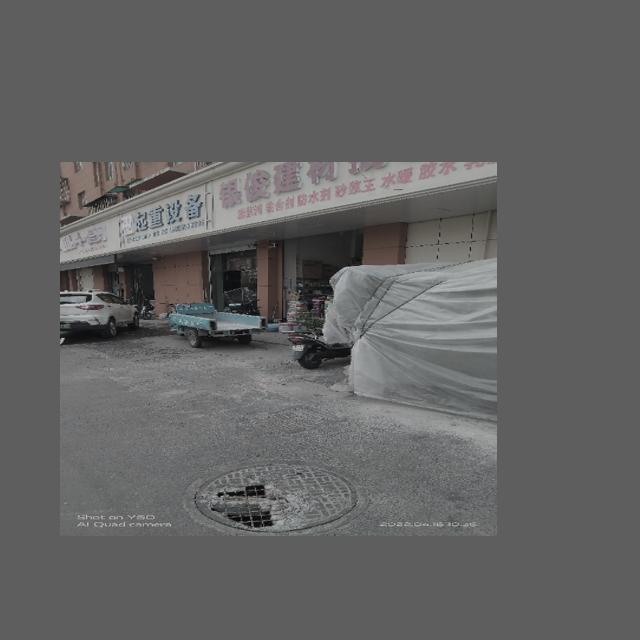broke: (182, 460, 369, 535)
